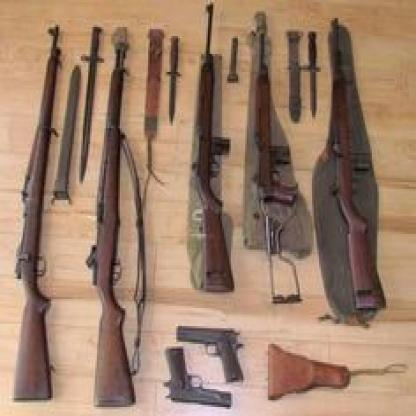Gun: (84, 29, 148, 410), (12, 25, 64, 406), (326, 14, 386, 312), (255, 11, 302, 306), (192, 1, 236, 295)
Knife: (51, 25, 106, 206), (144, 26, 181, 139), (284, 27, 322, 123)
Pistol: (162, 344, 233, 409), (175, 322, 246, 385)
